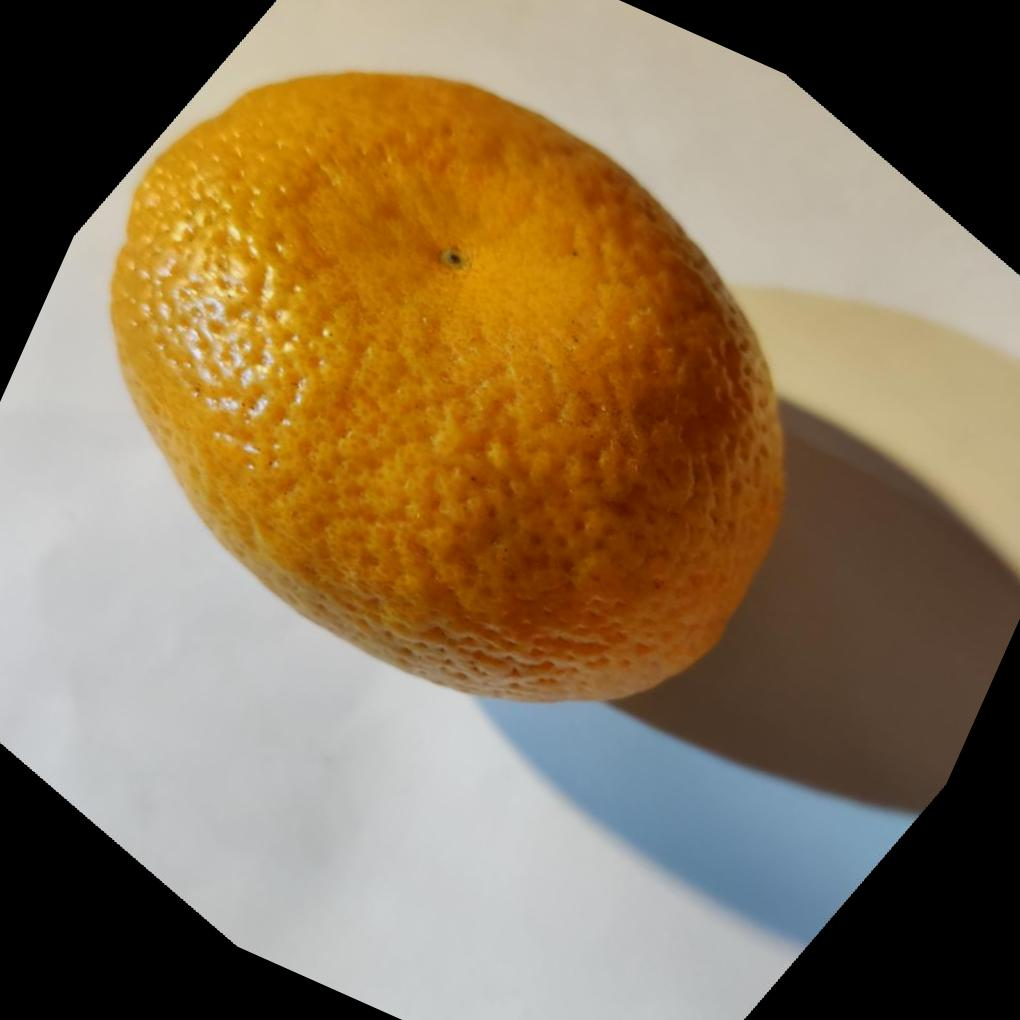FreshGuava: (106, 70, 787, 709)
